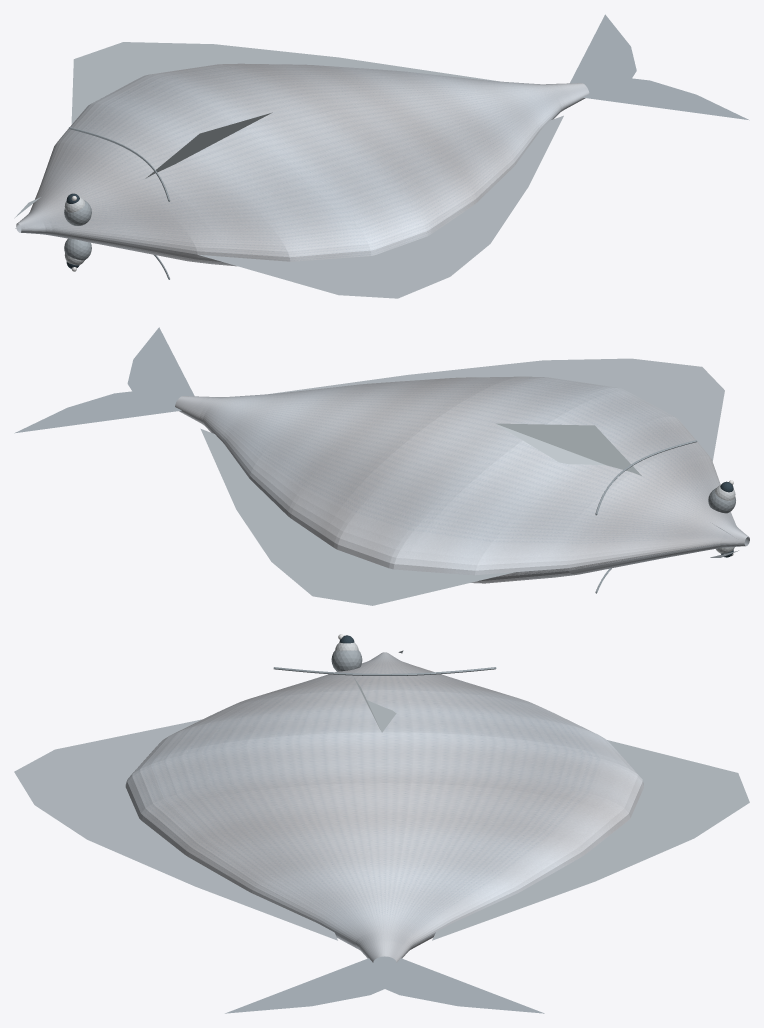
File: Ikan_Bawal_Putih.glb
3 views of the same model, one above another, from view 1: azimuth 30°, elevation 25°; view 2: azimuth 150°, elevation 25°; view 3: azimuth 270°, elevation 25° (orthographic). The views are drawn at different scales.
Parts seen in each view (by area): view 1: fish; view 2: fish; view 3: fish.
Part boxes in pixels (x1,y1,x2,y2): fish: [14, 14, 749, 298]; fish: [14, 327, 749, 605]; fish: [14, 634, 749, 1013].
Bounding box in the file's own units: 2.89 × 0.54 × 2.52.
1 material, 1 textured.
